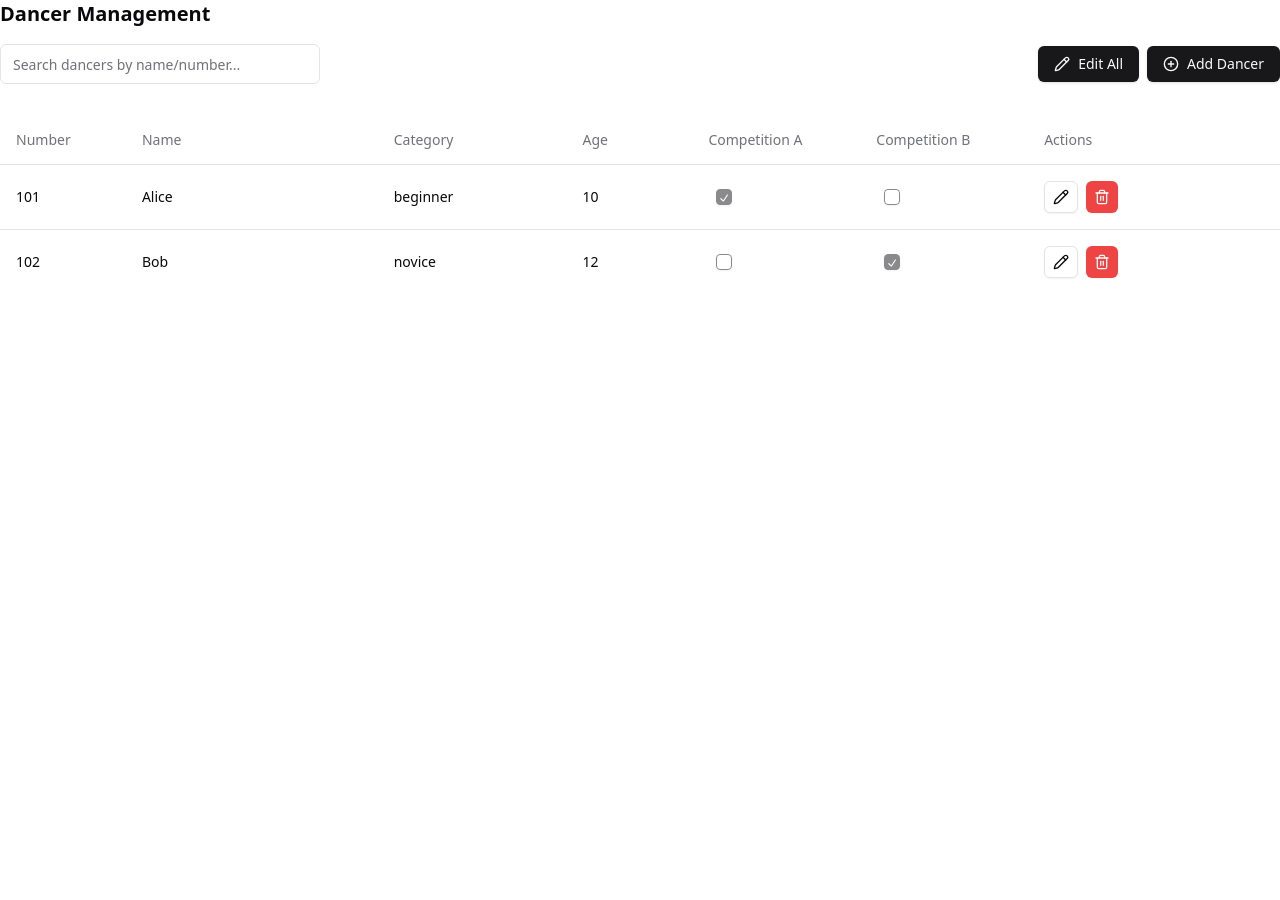
DancerManagement › opens the "Add Dancer" modal when clicking the button
Click the button "Add Dancer".
click(1214, 64)  # box [1147,46,1279,82]
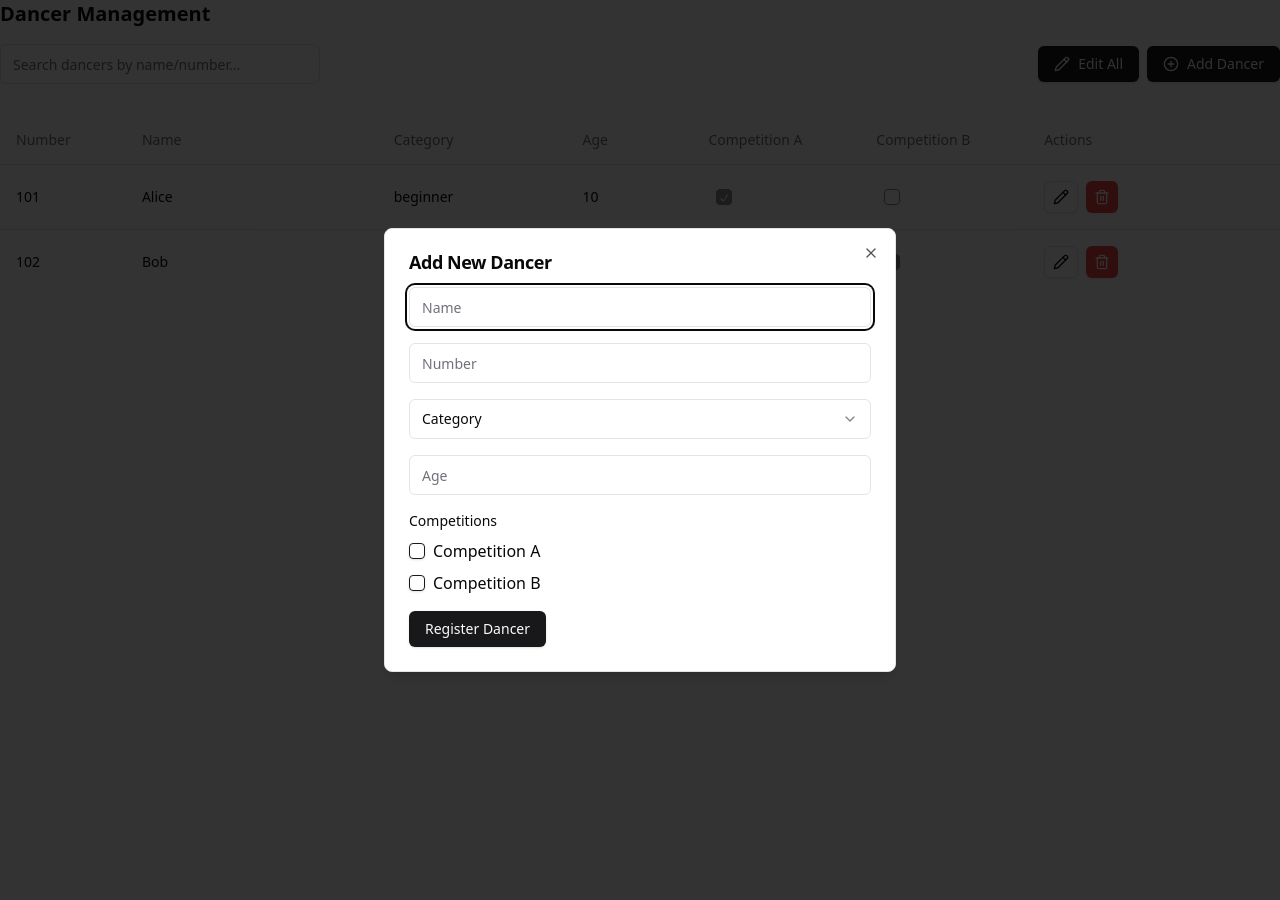
Expected: the heading "Add New Dancer" is shown, [409,250,552,274]
